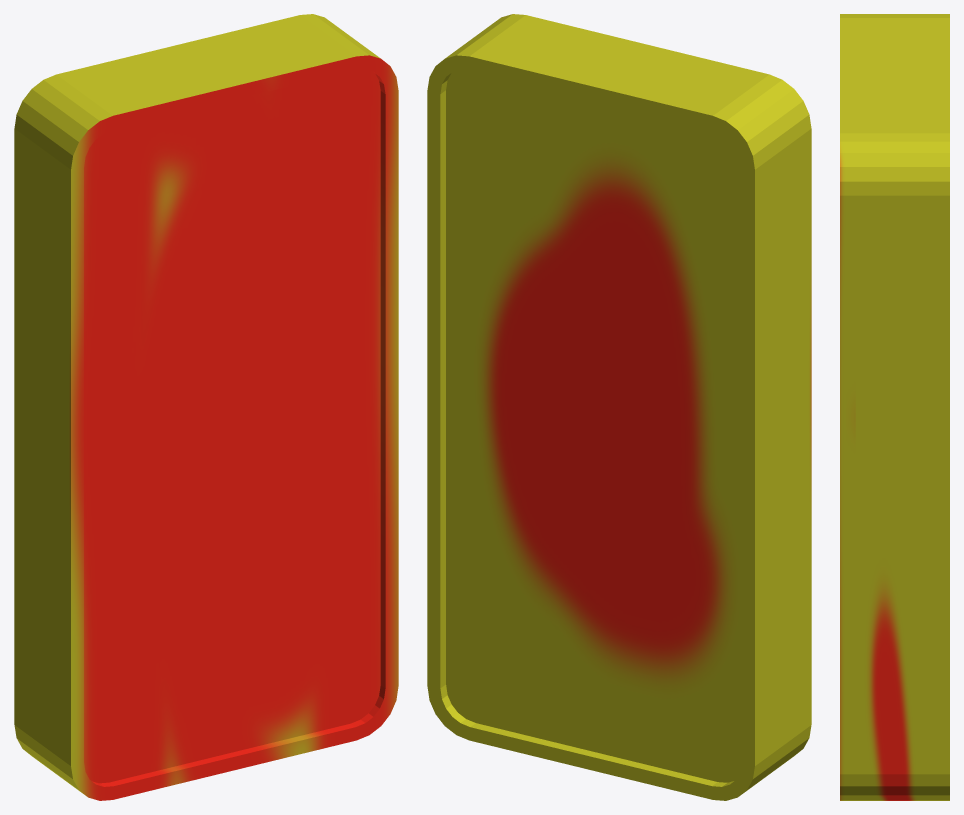
File: block.glb
The picture shows the model from 3 angles, left to right: view 1: azimuth 30°, elevation 25°; view 2: azimuth 150°, elevation 25°; view 3: azimuth 270°, elevation 25°; orthographic projection. The views are drawn at different scales.
Visible parts, largest first — view 1: Cube; view 2: Cube; view 3: Cube.
Part boxes in pixels (x1,y1,x2,y2): Cube: (14, 14, 398, 800); Cube: (427, 14, 811, 800); Cube: (840, 14, 949, 800).
Bounding box in the file's own units: 0.6302 × 1.26 × 0.1885.
Materials: 1 (1 with a texture image).
